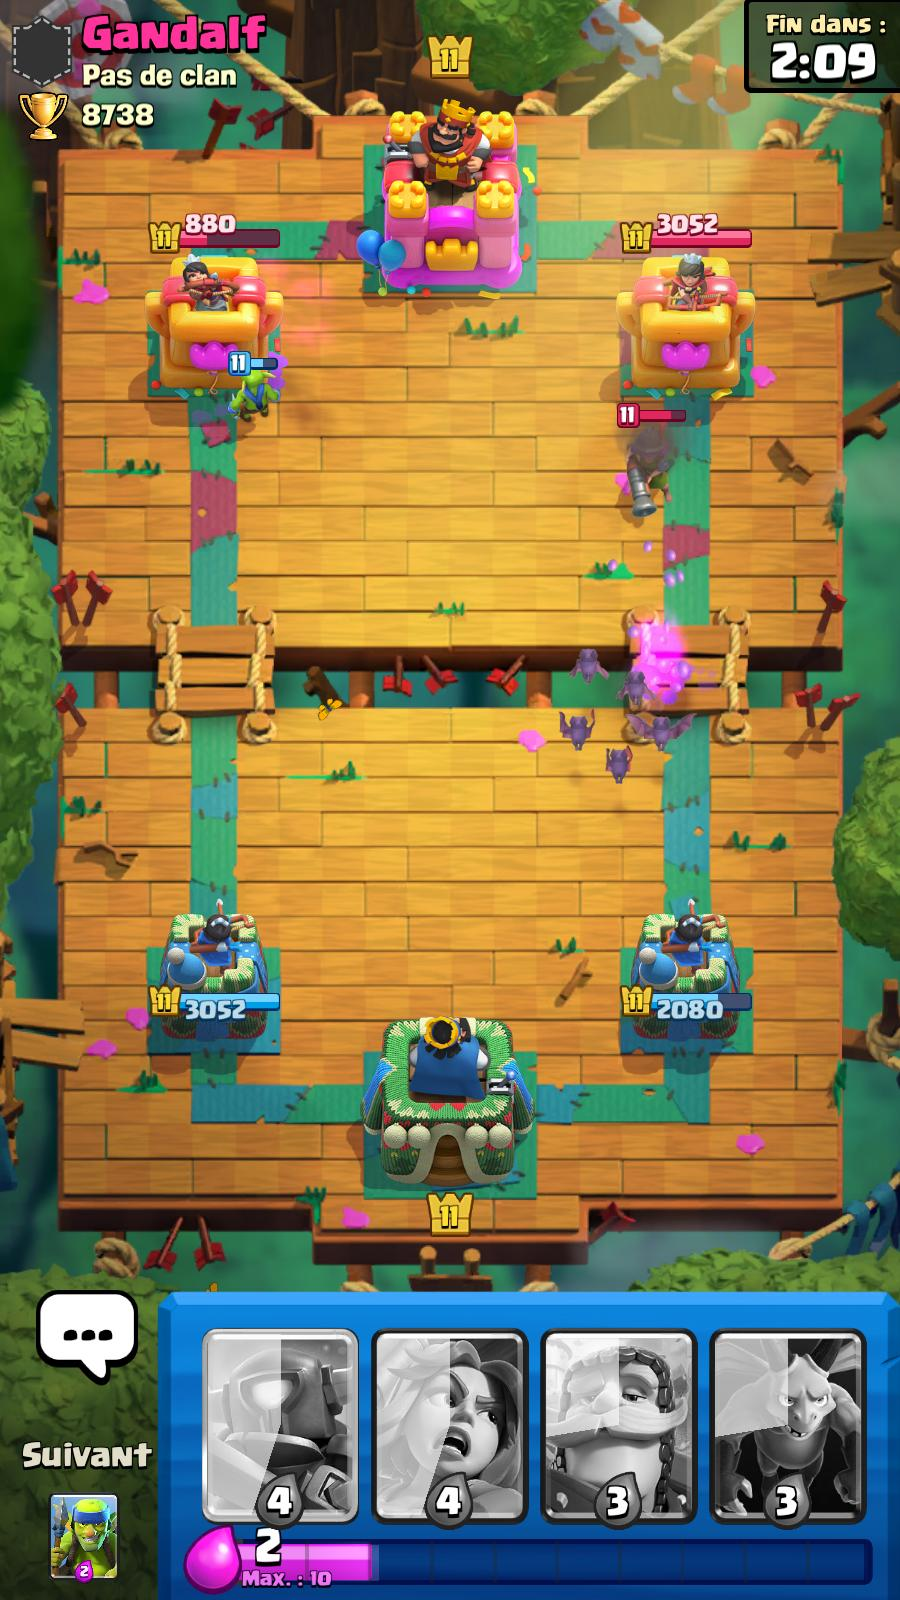bat: (629, 711, 707, 754), (541, 699, 604, 749), (619, 664, 664, 714), (601, 742, 640, 793), (574, 637, 610, 688)
gobelin: (210, 348, 291, 427)
mousquetaire: (614, 404, 687, 519)
